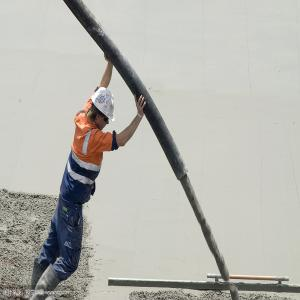white: (89, 86, 117, 131)
